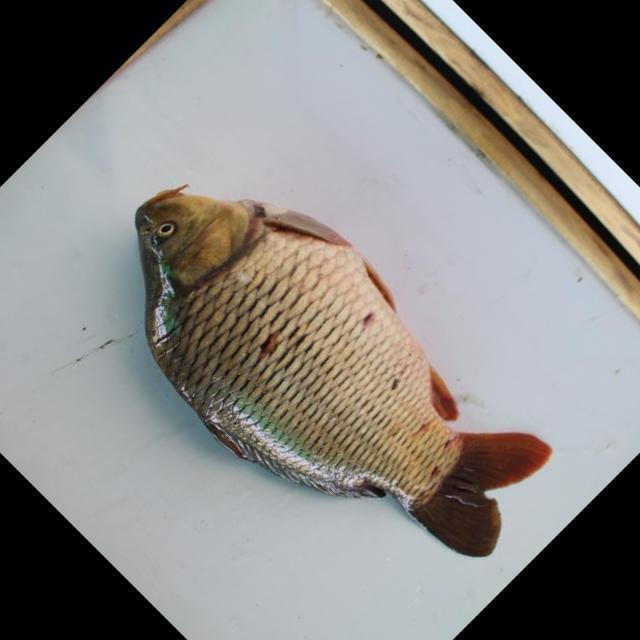CommonCarp: (135, 177, 548, 582)
